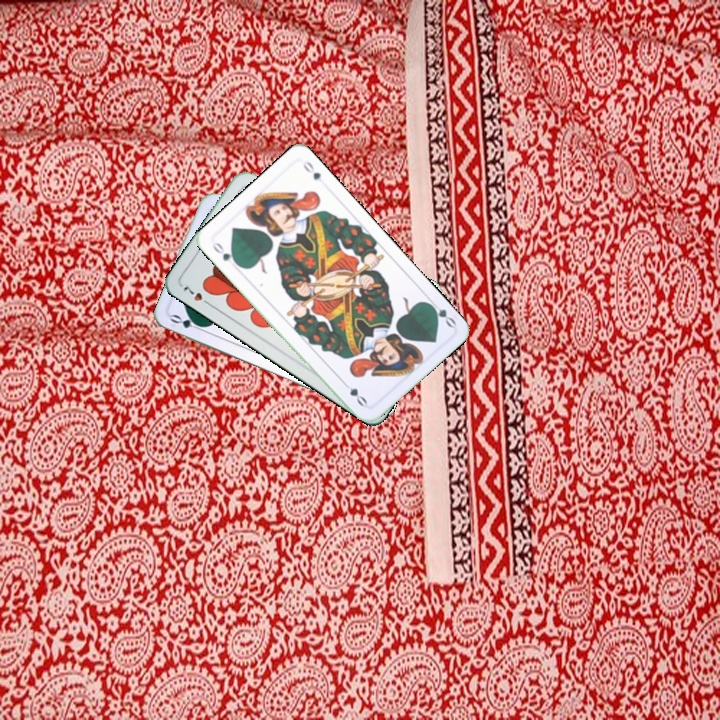GO: (424, 296, 459, 330), (208, 238, 242, 269), (166, 310, 207, 334)
H7: (179, 280, 214, 309)
